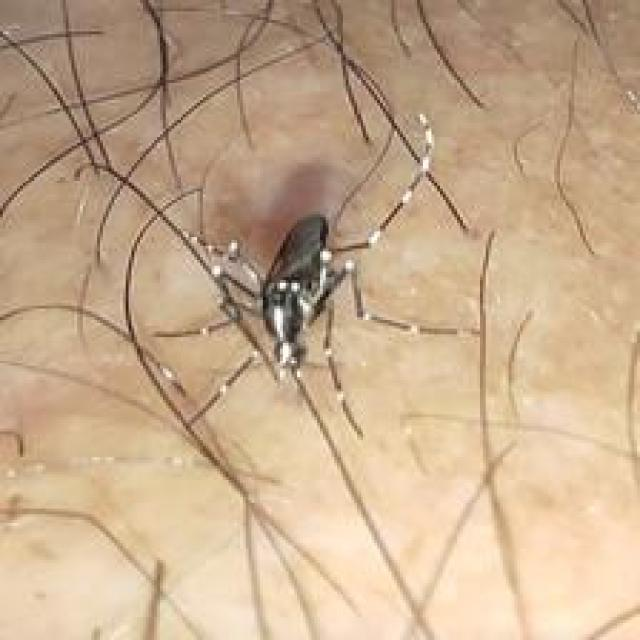Aedes albopictus: (152, 110, 477, 447)
